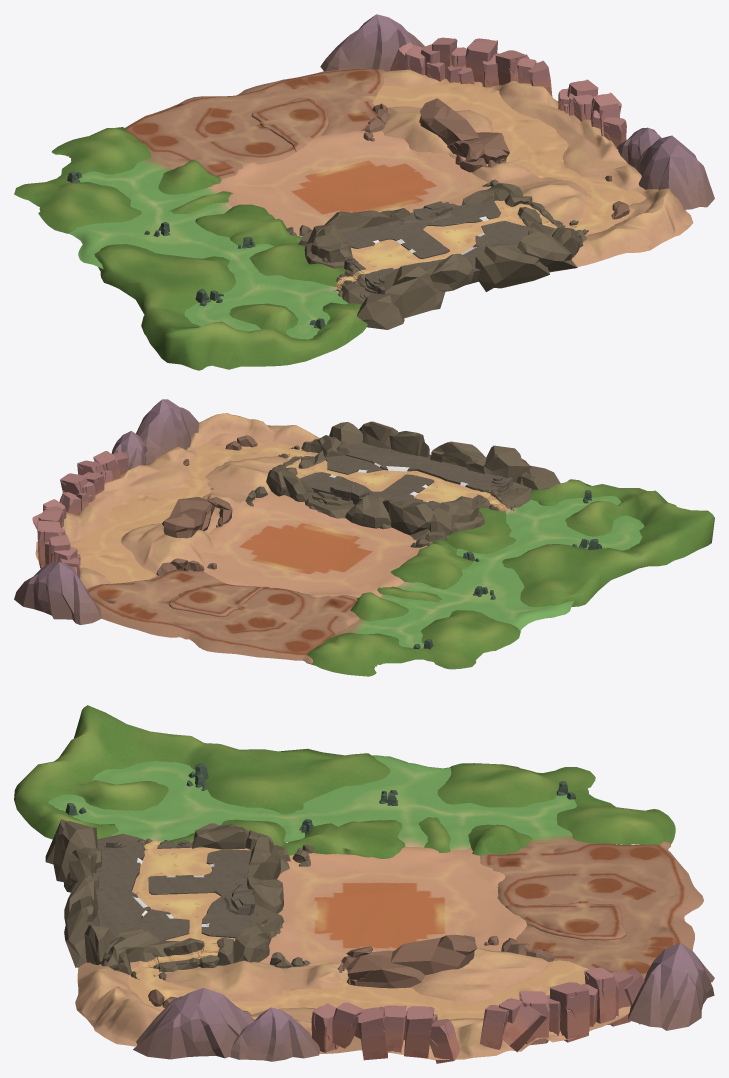
The model's file is Ground.fbx.
3 renders of one model, top to bottom at view 1: azimuth 30°, elevation 25°; view 2: azimuth 150°, elevation 25°; view 3: azimuth 270°, elevation 25°, orthographic. The views are drawn at different scales.
Parts seen in each view (by area): view 1: Ground Grass_Hill, Mali_Ground, Desert_Hills, Lalibela_Ground, Ground Grass_Ground, Desert Ground, Tunisia Ground_BaseA, Desert_Rock_B.002, Tunisia Ground_BaseB, Desert_Rock_B.003, Tunisia Ground_Rocks_17.001, Tunisia Ground_Rocks_03.001 (+13 smaller); view 2: Ground Grass_Hill, Mali_Ground, Lalibela_Ground, Desert_Hills, Ground Grass_Ground, Desert Ground, Tunisia Ground_BaseA, Desert_Rock_B.003, Desert_Rock_B.002, Tunisia Ground_BaseB, Tunisia Ground_Rocks_06.016, Tunisia Ground_Rocks_03.002 (+17 smaller); view 3: Ground Grass_Hill, Lalibela_Ground, Mali_Ground, Ground Grass_Ground, Desert_Hills, Tunisia Ground_BaseA, Desert Ground, Desert_Rock_B.002, Desert_Rock_B.003, Tunisia Ground_BaseB, Desert_Rock_B.001, Desert_Rock_C (+24 smaller).
Part boxes in pixels (x1=…): Ground Grass_Hill: x1=14, y1=127, x2=367, y2=370; Mali_Ground: x1=124, y1=68, x2=384, y2=179; Desert_Hills: x1=381, y1=69, x2=693, y2=266; Lalibela_Ground: x1=208, y1=131, x2=490, y2=236; Ground Grass_Ground: x1=68, y1=151, x2=348, y2=339; Desert Ground: x1=372, y1=81, x2=645, y2=235; Tunisia Ground_BaseA: x1=341, y1=199, x2=529, y2=294; Desert_Rock_B.002: x1=633, y1=135, x2=714, y2=209; Tunisia Ground_BaseB: x1=350, y1=200, x2=525, y2=274; Desert_Rock_B.003: x1=320, y1=14, x2=424, y2=71; Tunisia Ground_Rocks_17.001: x1=475, y1=244, x2=549, y2=291; Tunisia Ground_Rocks_03.001: x1=384, y1=265, x2=435, y2=317; Ground Grass_Hill: x1=306, y1=479, x2=714, y2=676; Mali_Ground: x1=86, y1=570, x2=359, y2=663; Lalibela_Ground: x1=186, y1=491, x2=432, y2=597; Desert_Hills: x1=35, y1=413, x2=319, y2=589; Ground Grass_Ground: x1=336, y1=496, x2=644, y2=648; Desert Ground: x1=70, y1=441, x2=311, y2=583; Tunisia Ground_BaseA: x1=299, y1=442, x2=512, y2=509; Desert_Rock_B.003: x1=14, y1=562, x2=101, y2=624; Desert_Rock_B.002: x1=136, y1=399, x2=199, y2=463; Tunisia Ground_BaseB: x1=296, y1=460, x2=487, y2=503; Tunisia Ground_Rocks_06.016: x1=382, y1=499, x2=435, y2=535; Tunisia Ground_Rocks_03.002: x1=430, y1=441, x2=486, y2=473; Ground Grass_Hill: x1=14, y1=705, x2=675, y2=858; Lalibela_Ground: x1=260, y1=846, x2=526, y2=966; Mali_Ground: x1=479, y1=841, x2=703, y2=979; Ground Grass_Ground: x1=48, y1=755, x2=589, y2=850; Desert_Hills: x1=75, y1=948, x2=630, y2=1059; Tunisia Ground_BaseA: x1=96, y1=838, x2=255, y2=941; Desert Ground: x1=128, y1=960, x2=589, y2=1019; Desert_Rock_B.002: x1=133, y1=988, x2=254, y2=1059; Desert_Rock_B.003: x1=628, y1=942, x2=714, y2=1030; Tunisia Ground_BaseB: x1=132, y1=845, x2=250, y2=943; Desert_Rock_B.001: x1=230, y1=1007, x2=319, y2=1061; Desert_Rock_C: x1=390, y1=934, x2=477, y2=975.
Size of the model in its own units: 18442 by 2093 by 16483.
